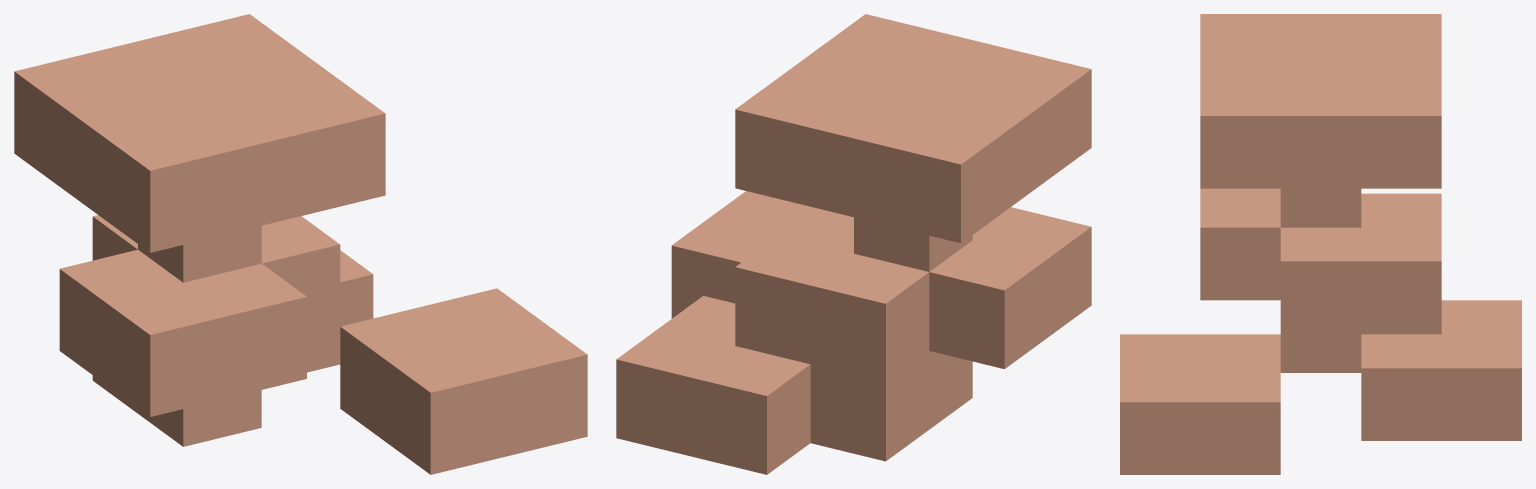
The model's file is cultivated_3.obj.
3 renders of one model, left to right at view 1: azimuth 30°, elevation 25°; view 2: azimuth 150°, elevation 25°; view 3: azimuth 270°, elevation 25°, orthographic. The views are drawn at different scales.
Bounding box in the file's own units: 1 × 0.8 × 1.
